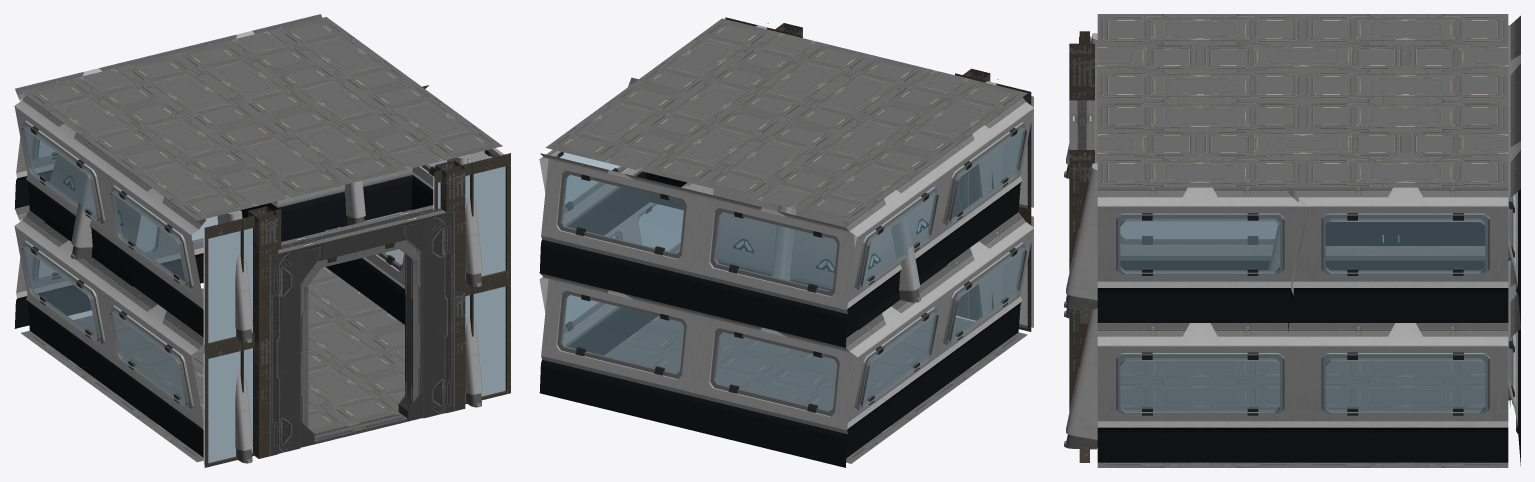
The model's file is pavillon-astra.lod0.glb.
3 renders of one model, left to right at view 1: azimuth 30°, elevation 25°; view 2: azimuth 150°, elevation 25°; view 3: azimuth 270°, elevation 25°, orthographic. The views are drawn at different scales.
Parts seen in each view (by area): view 1: Platform_3Plates, WallAstra_Straight_Window, Metal_FullWindow, Metal_Column_Center; view 2: WallAstra_Straight_Window, Platform_3Plates, Metal_FullWindow, Metal_Column_Center, WallAstra_Corner_Square_Outer; view 3: WallAstra_Straight_Window, Platform_3Plates, Metal_Column_Center, Metal_FullWindow.
Part boxes in pixels (box(x1,y1,x2,y2)): Platform_3Plates: box(20, 17, 502, 463); WallAstra_Straight_Window: box(14, 14, 504, 463); Metal_FullWindow: box(203, 153, 510, 467); Metal_Column_Center: box(248, 160, 465, 458); WallAstra_Straight_Window: box(539, 25, 1033, 467); Platform_3Plates: box(545, 18, 1027, 463); Metal_FullWindow: box(725, 17, 1033, 331); Metal_Column_Center: box(773, 23, 990, 320); WallAstra_Corner_Square_Outer: box(733, 219, 928, 272); WallAstra_Straight_Window: box(1066, 15, 1520, 465); Platform_3Plates: box(1064, 14, 1508, 467); Metal_Column_Center: box(1069, 43, 1094, 411); Metal_FullWindow: box(1079, 31, 1090, 462).
Size of the model in its own units: 8.5 by 6.03 by 8.9.
9 materials, 9 textured.
